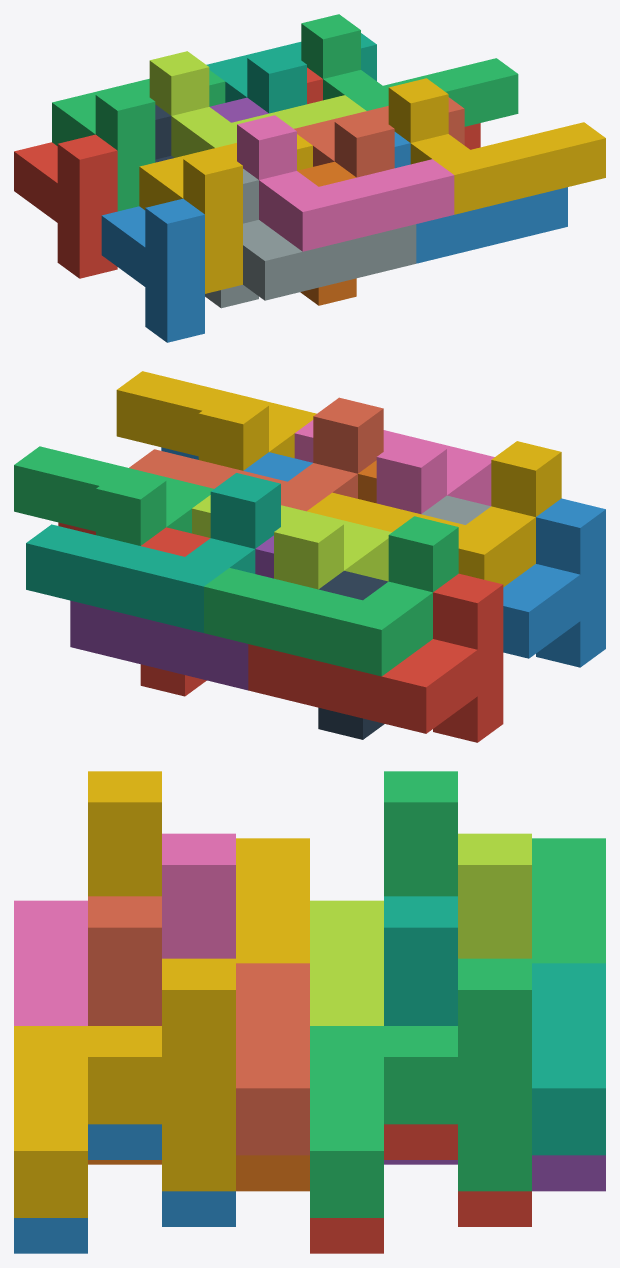
File: tiling.obj
3 renders of one model, top to bottom at view 1: azimuth 30°, elevation 25°; view 2: azimuth 150°, elevation 25°; view 3: azimuth 270°, elevation 25°, orthographic. The views are drawn at different scales.
Visible parts, largest first — view 1: copy_2_domain_4, copy_2_domain_8, copy_1_domain_2, copy_1_domain_1, copy_2_domain_2, copy_2_domain_7, copy_1_domain_4, copy_1_domain_3, copy_2_domain_3, copy_2_domain_6, copy_1_domain_8, copy_1_domain_7 (+4 smaller); view 2: copy_1_domain_1, copy_1_domain_3, copy_1_domain_7, copy_1_domain_2, copy_2_domain_8, copy_2_domain_7, copy_1_domain_4, copy_1_domain_8, copy_1_domain_5, copy_2_domain_4, copy_2_domain_3, copy_2_domain_5 (+4 smaller); view 3: copy_2_domain_7, copy_2_domain_8, copy_1_domain_7, copy_1_domain_8, copy_1_domain_3, copy_1_domain_4, copy_2_domain_3, copy_2_domain_4, copy_2_domain_5, copy_2_domain_6, copy_1_domain_5, copy_1_domain_6.
Part boxes in pixels (left/top/right/bottom): copy_2_domain_4: left=237, top=115, right=454, bottom=251; copy_2_domain_8: left=388, top=78, right=605, bottom=214; copy_1_domain_2: left=101, top=198, right=204, bottom=342; copy_1_domain_1: left=14, top=134, right=117, bottom=278; copy_2_domain_2: left=205, top=168, right=416, bottom=308; copy_2_domain_7: left=301, top=14, right=518, bottom=126; copy_1_domain_4: left=139, top=134, right=312, bottom=293; copy_1_domain_3: left=52, top=70, right=225, bottom=211; copy_2_domain_3: left=149, top=51, right=366, bottom=157; copy_2_domain_6: left=394, top=132, right=567, bottom=263; copy_1_domain_8: left=294, top=97, right=464, bottom=177; copy_1_domain_7: left=206, top=33, right=376, bottom=113; copy_1_domain_1: left=248, top=573, right=503, bottom=742; copy_1_domain_3: left=204, top=516, right=458, bottom=676; copy_1_domain_7: left=26, top=473, right=280, bottom=632; copy_1_domain_2: left=503, top=498, right=605, bottom=667; copy_2_domain_8: left=116, top=371, right=316, bottom=470; copy_2_domain_7: left=14, top=446, right=213, bottom=545; copy_1_domain_4: left=307, top=441, right=561, bottom=587; copy_1_domain_8: left=129, top=397, right=383, bottom=511; copy_1_domain_5: left=70, top=535, right=273, bottom=690; copy_2_domain_4: left=294, top=420, right=494, bottom=513; copy_2_domain_3: left=192, top=495, right=391, bottom=589; copy_2_domain_5: left=58, top=522, right=210, bottom=696; copy_2_domain_7: left=310, top=958, right=531, bottom=1217; copy_2_domain_8: left=14, top=958, right=235, bottom=1217; copy_1_domain_7: left=384, top=896, right=605, bottom=1155; copy_1_domain_8: left=88, top=896, right=309, bottom=1155; copy_1_domain_3: left=384, top=771, right=605, bottom=963; copy_1_domain_4: left=88, top=771, right=309, bottom=963; copy_2_domain_3: left=310, top=833, right=531, bottom=1025; copy_2_domain_4: left=14, top=833, right=235, bottom=1025; copy_2_domain_5: left=310, top=1124, right=531, bottom=1253; copy_2_domain_6: left=14, top=1124, right=235, bottom=1253; copy_1_domain_5: left=384, top=1155, right=605, bottom=1191; copy_1_domain_6: left=88, top=1155, right=309, bottom=1191.
Size of the model in its own units: 11 by 4 by 8.
